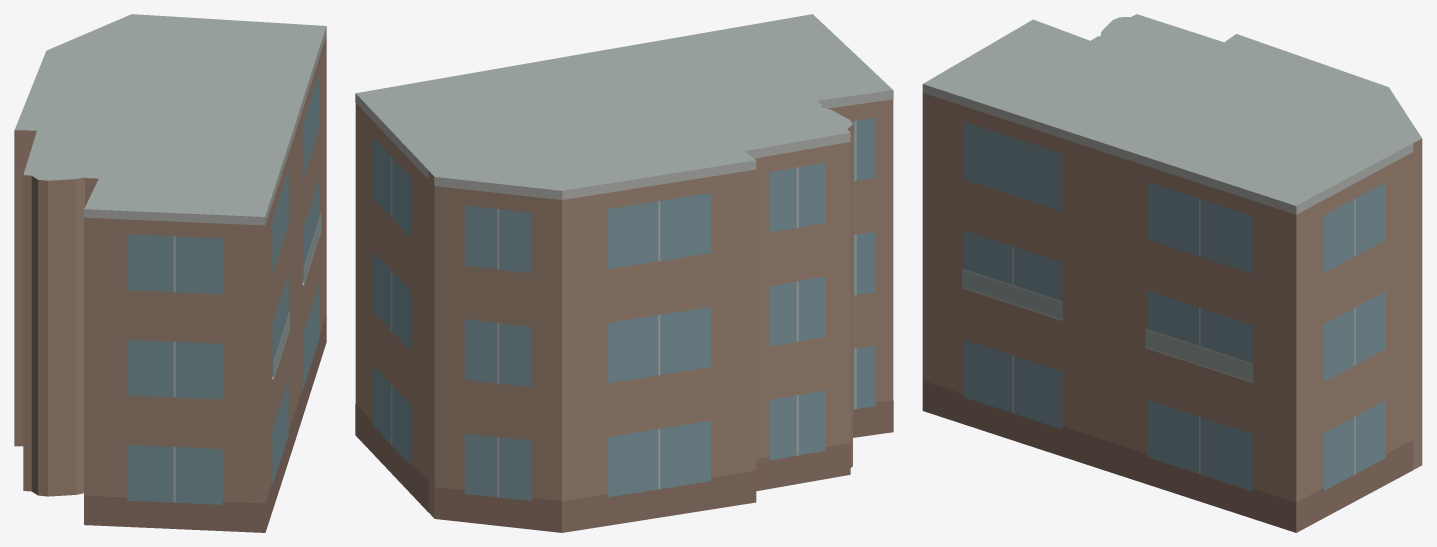
File: survey-upis-32500247.glb
3 views of the same model, side by side, from view 1: azimuth 30°, elevation 25°; view 2: azimuth 150°, elevation 25°; view 3: azimuth 270°, elevation 25° (orthographic). The views are drawn at different scales.
Visible parts, largest first — view 1: survey-upis-32500247.tmp; view 2: survey-upis-32500247.tmp; view 3: survey-upis-32500247.tmp.
Part boxes in pixels (x1,y1,x2,y2): survey-upis-32500247.tmp: (14,14,326,532); survey-upis-32500247.tmp: (355,14,893,532); survey-upis-32500247.tmp: (922,14,1422,532).
Size of the model in its own units: 11.48 by 9.1 by 12.62.
